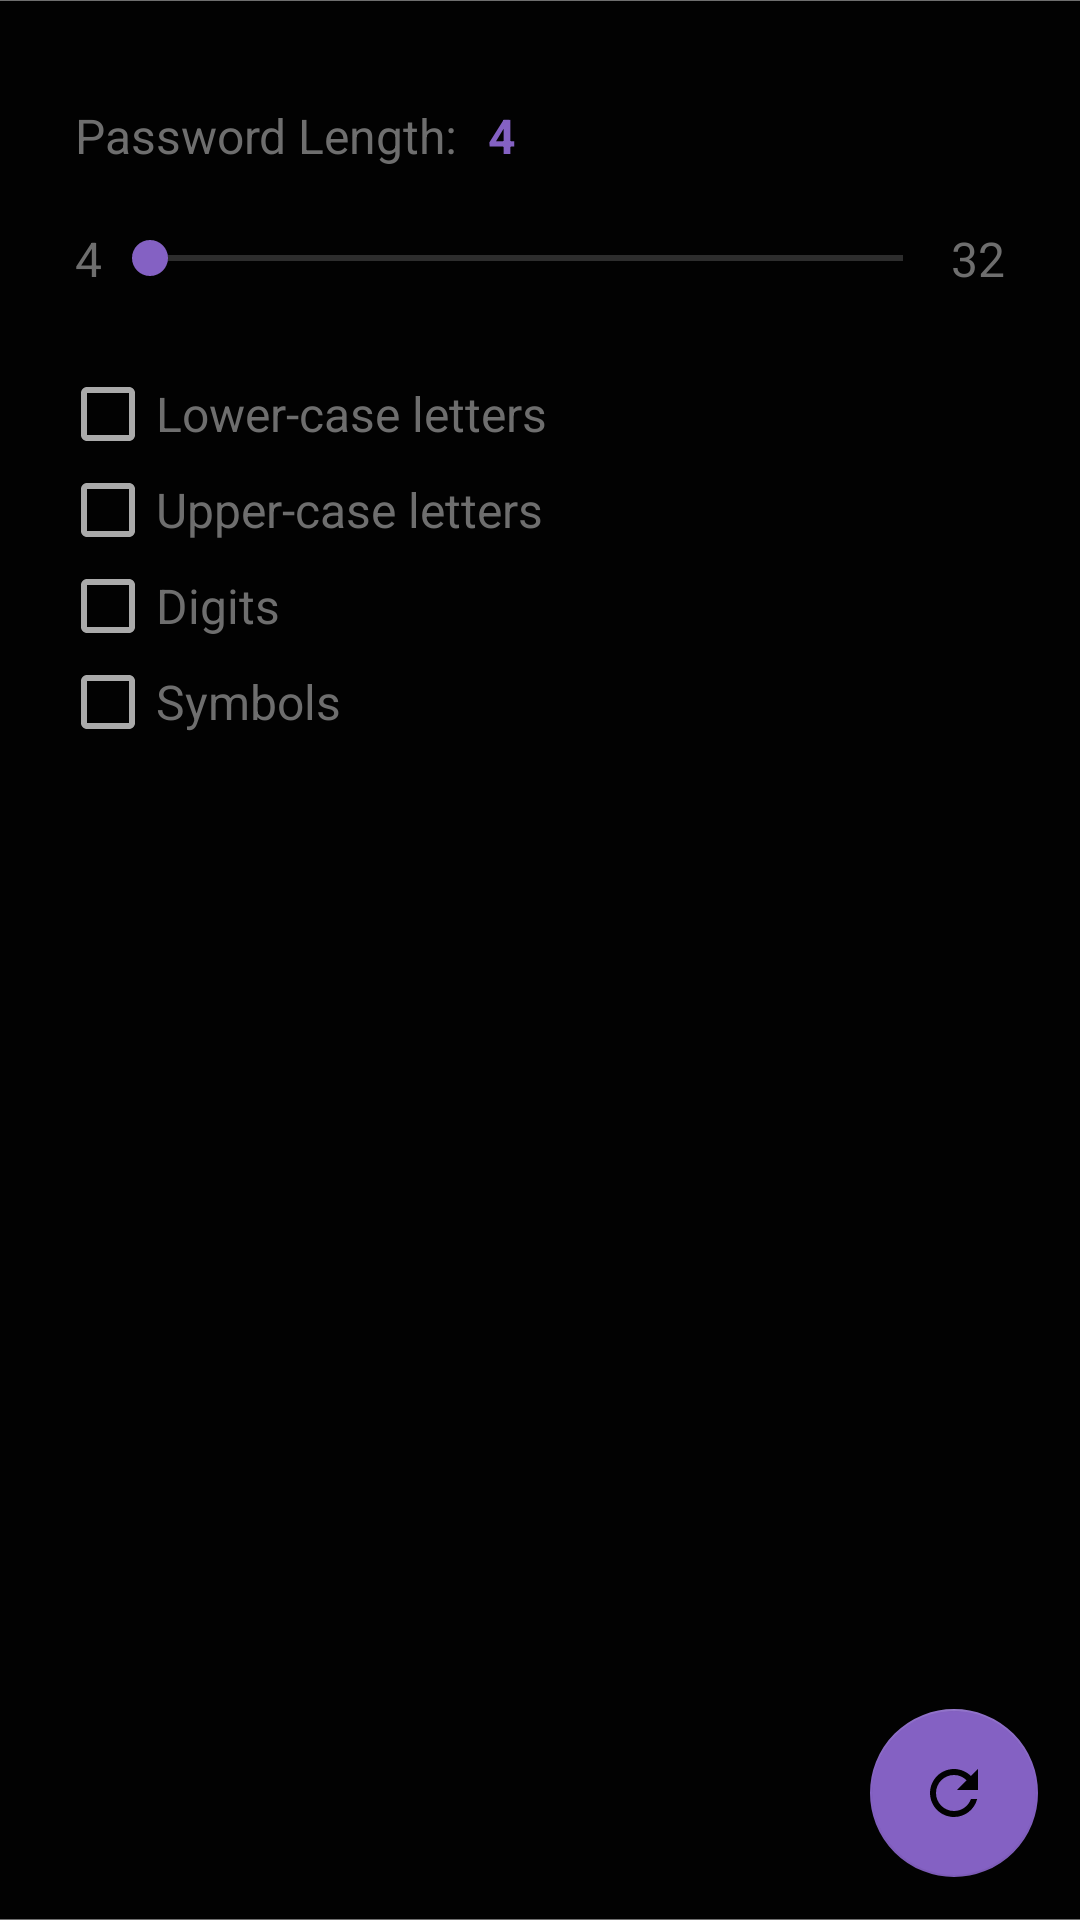

Icon bounding boxes for this 1080*1920 phone screenshot, format (x1, y1, x2, y2):
refresh: (870, 1709, 1038, 1877)
